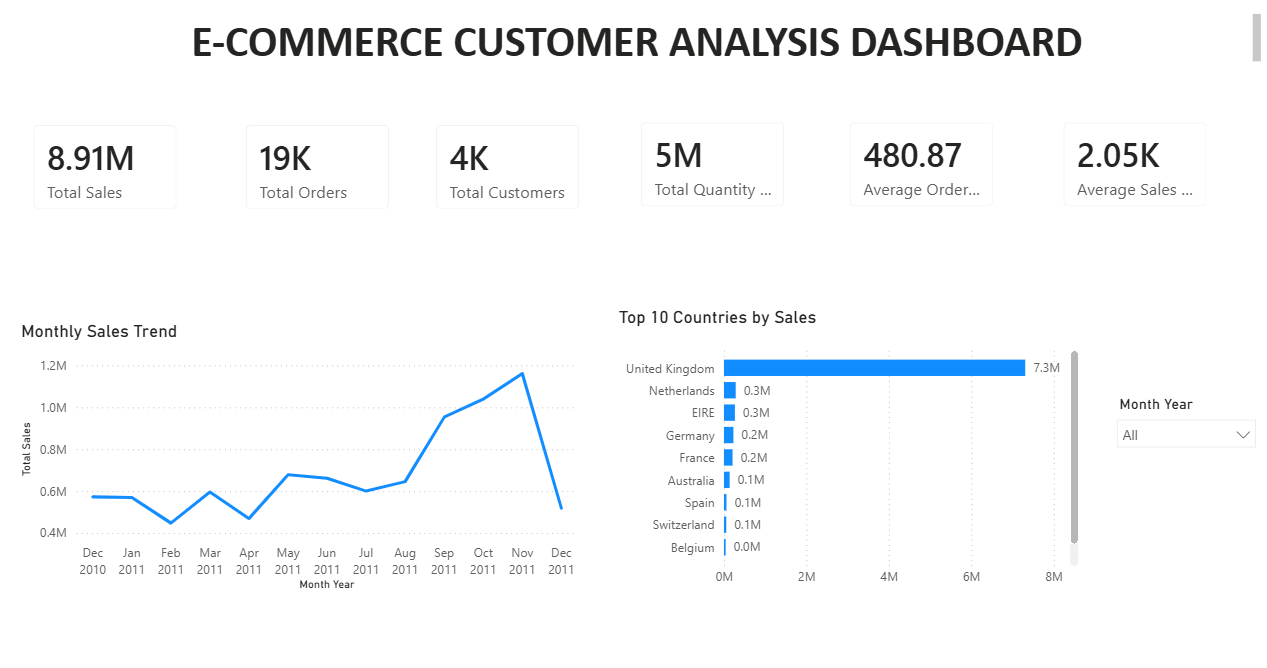

The dashboard page shown, as its layout file describes it:
{"tool":"powerbi","page":{"name":"Executive Overview","canvas":[1280,720],"ordinal":0},"visuals":[{"type":"textbox","box":[30.2,34.3,1222.6,59],"z":0},{"type":"cardVisual","fields":{"Data":["e-commerce_data.Total Sales"]},"box":[30.2,130.4,174.3,116.6],"z":1000},{"type":"cardVisual","fields":{"Data":["e-commerce_data.Total Orders"]},"box":[238.8,130.4,174.3,116.6],"z":2000},{"type":"cardVisual","fields":{"Data":["e-commerce_data.Total Customers"]},"box":[424,130.4,174.3,116.6],"z":3000},{"type":"cardVisual","fields":{"Data":["e-commerce_data.Total Quantity Sold"]},"box":[624.4,129,174.3,116.6],"z":4000},{"type":"cardVisual","fields":{"Data":["e-commerce_data.Average Order Value"]},"box":[828.8,129,174.3,116.6],"z":5000},{"type":"cardVisual","fields":{"Data":["e-commerce_data.Average Sales per Customer"]},"box":[1038.8,129,174.3,116.6],"z":6000},{"type":"slicer","fields":{"Values":["e-commerce_data.Month Year"]},"box":[1096.4,407.5,156.4,118],"z":7000},{"type":"lineChart","title":"Monthly Sales Trend","fields":{"Category":["e-commerce_data.Month Year"],"Y":["e-commerce_data.Total Sales"]},"box":[30.2,338.9,555.7,269],"z":8000},{"type":"clusteredBarChart","title":"Top 10 Countries by Sales","fields":{"Category":["e-commerce_data.Country"],"Y":["e-commerce_data.Total Sales"]},"box":[614.8,325.2,459.7,282.7],"z":9000}]}

Visuals, with their boxes on the page's 1280x720 design canvas (x1, y1, x2, y2). These are canvas units, not pixel positions in the 1267x668 screenshot, which may show the page scaled, cropped or inside an application window:
textbox: <region>30, 34, 1253, 93</region>
cardVisual - e-commerce_data.Total Sales: <region>30, 130, 204, 247</region>
cardVisual - e-commerce_data.Total Orders: <region>239, 130, 413, 247</region>
cardVisual - e-commerce_data.Total Customers: <region>424, 130, 598, 247</region>
cardVisual - e-commerce_data.Total Quantity Sold: <region>624, 129, 799, 246</region>
cardVisual - e-commerce_data.Average Order Value: <region>829, 129, 1003, 246</region>
cardVisual - e-commerce_data.Average Sales per Customer: <region>1039, 129, 1213, 246</region>
slicer - e-commerce_data.Month Year: <region>1096, 408, 1253, 526</region>
"Monthly Sales Trend" lineChart: <region>30, 339, 586, 608</region>
"Top 10 Countries by Sales" clusteredBarChart: <region>615, 325, 1074, 608</region>
